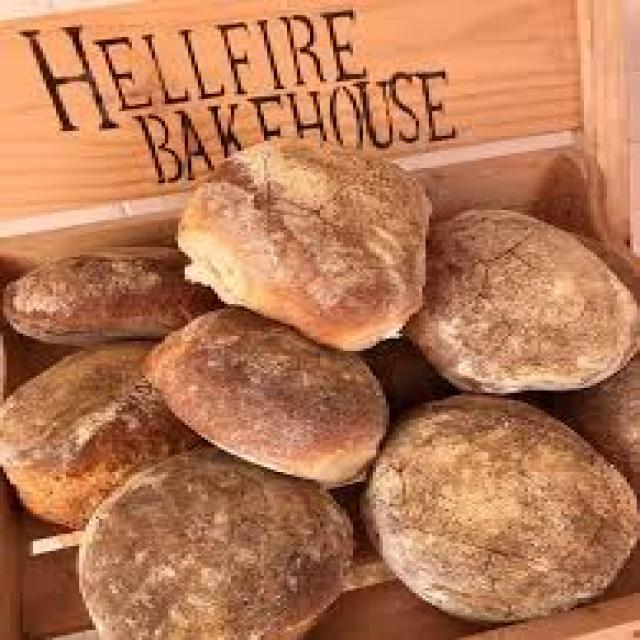Maltese-Bread: (360, 395, 637, 620), (178, 141, 429, 348), (79, 447, 350, 638), (406, 210, 637, 393), (148, 309, 386, 484), (0, 341, 195, 526), (3, 255, 218, 343)
